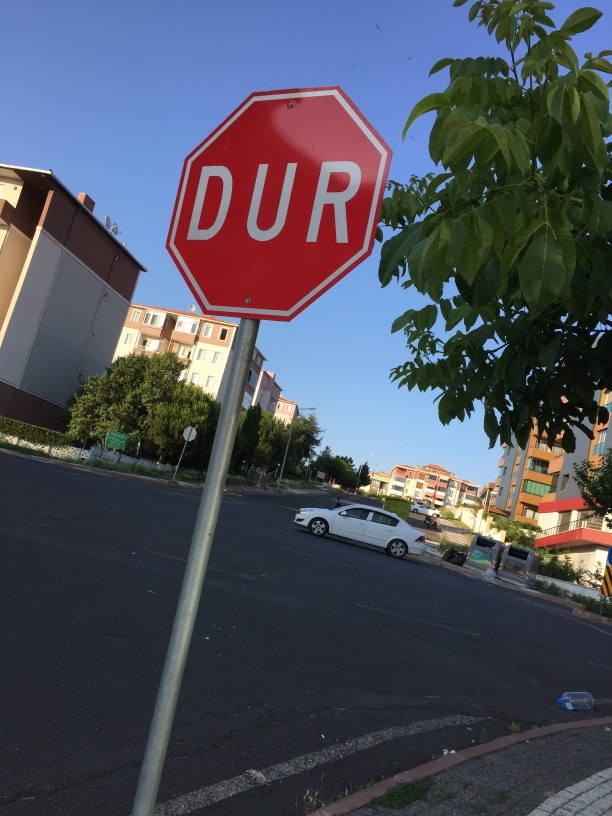arac_dur_isareti: (170, 25, 377, 539)
